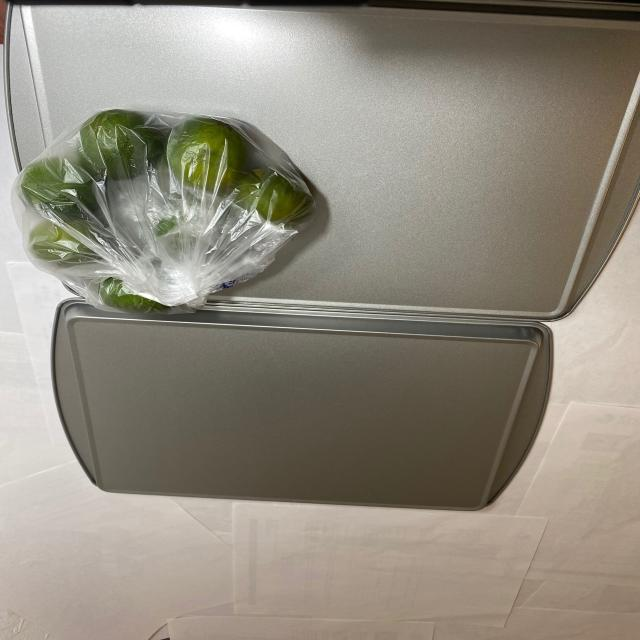lemon: (21, 108, 310, 319)
